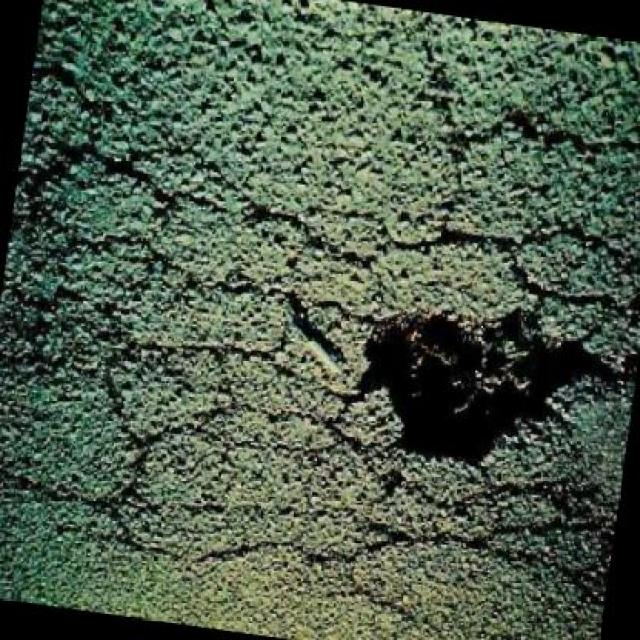pothole1: (344, 279, 627, 498)
